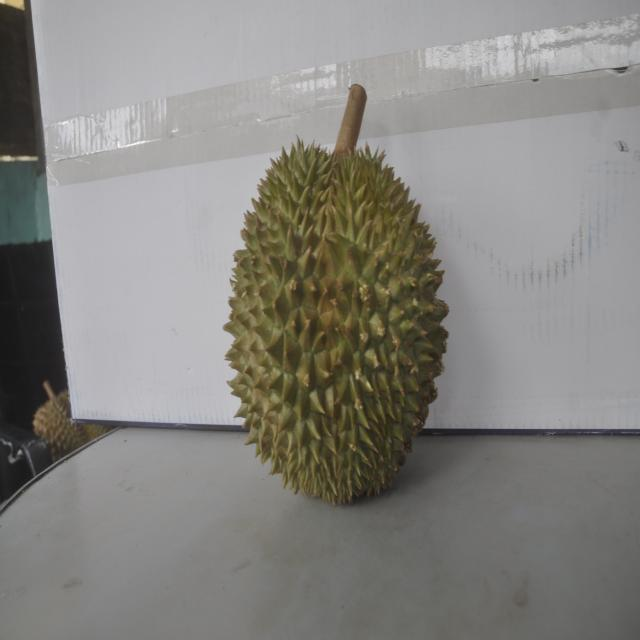mature: (225, 118, 446, 505)
